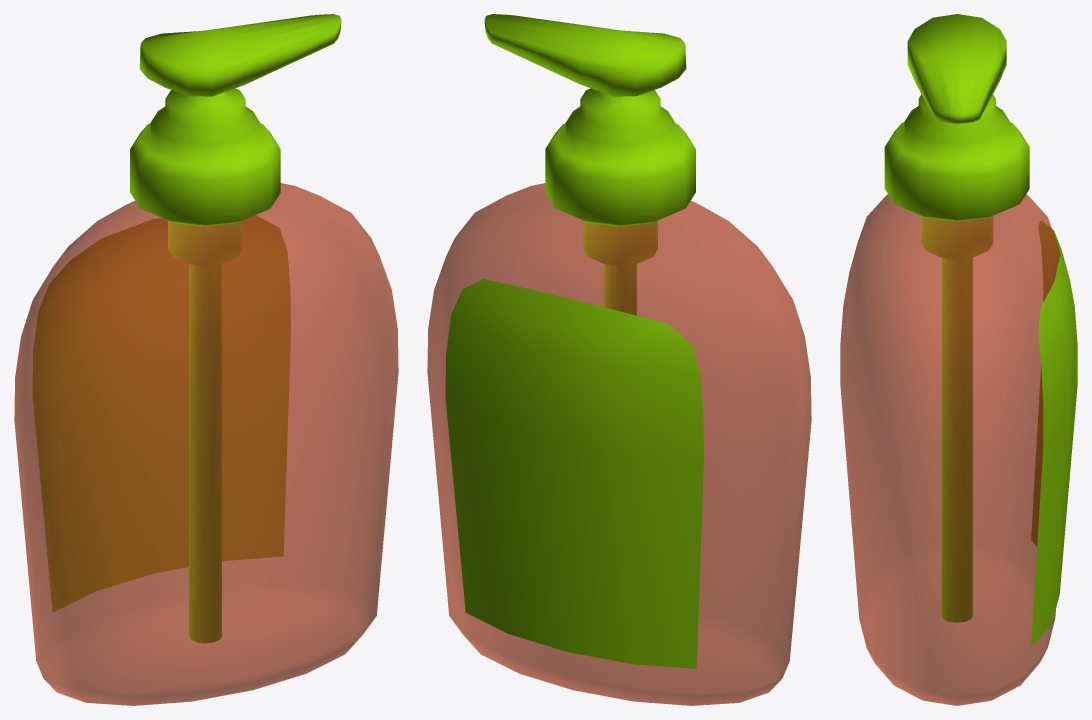
The model's file is SPP_MOD_Antibacterial_soap.fbx.
3 renders of one model, left to right at view 1: azimuth 30°, elevation 25°; view 2: azimuth 150°, elevation 25°; view 3: azimuth 270°, elevation 25°, orthographic. The views are drawn at different scales.
Visible parts, largest first — view 1: SPP_MOD_Antibacterial_soap; view 2: SPP_MOD_Antibacterial_soap; view 3: SPP_MOD_Antibacterial_soap.
Part boxes in pixels (<box>): SPP_MOD_Antibacterial_soap: <box>14,14,398,705</box>; SPP_MOD_Antibacterial_soap: <box>427,14,811,705</box>; SPP_MOD_Antibacterial_soap: <box>840,14,1077,705</box>.
Size of the model in its own units: 0.1275 by 0.206 by 0.0744.
